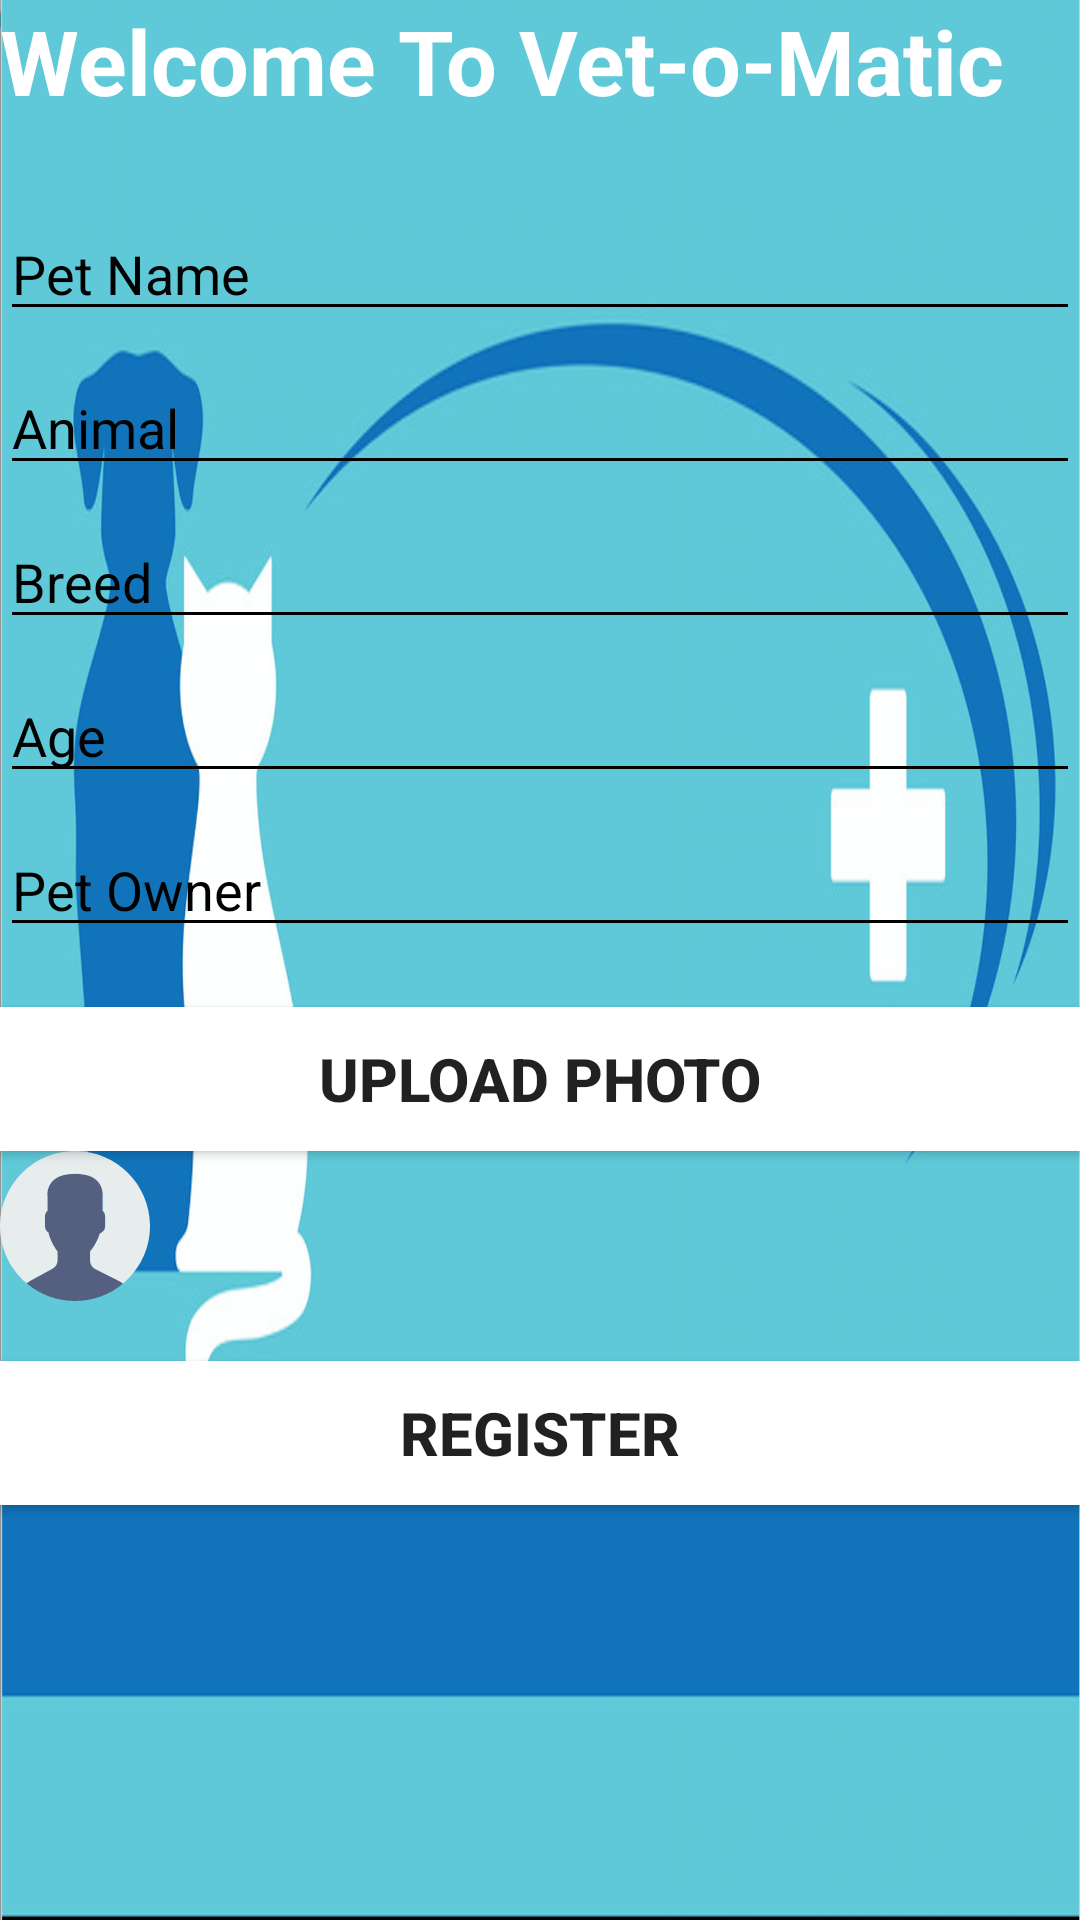

Named icons in this screenshot (1080px×1920px) and their centers, [x,y]:
account circle: [75,1226]
